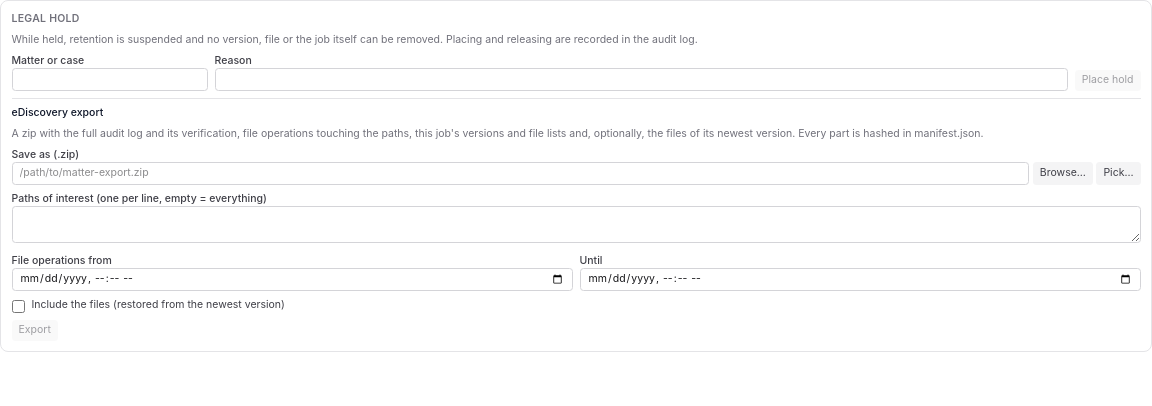
Scenario: legal hold › surfaces backend refusals
In the field labelled "Matter": point(110, 79) x1=12 y1=68 x2=208 y2=90, type "x"
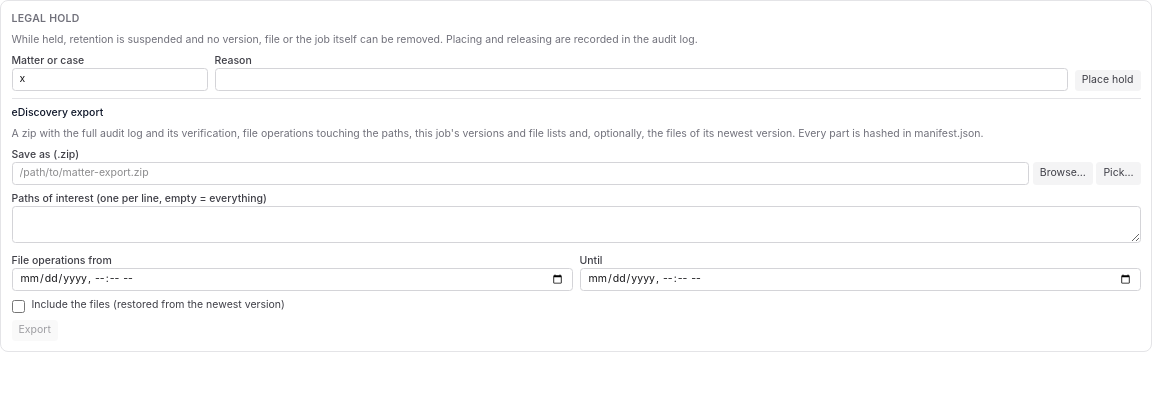
Click the button with test id "legal-hold-place": point(1108, 80) x1=1075 y1=70 x2=1140 y2=90
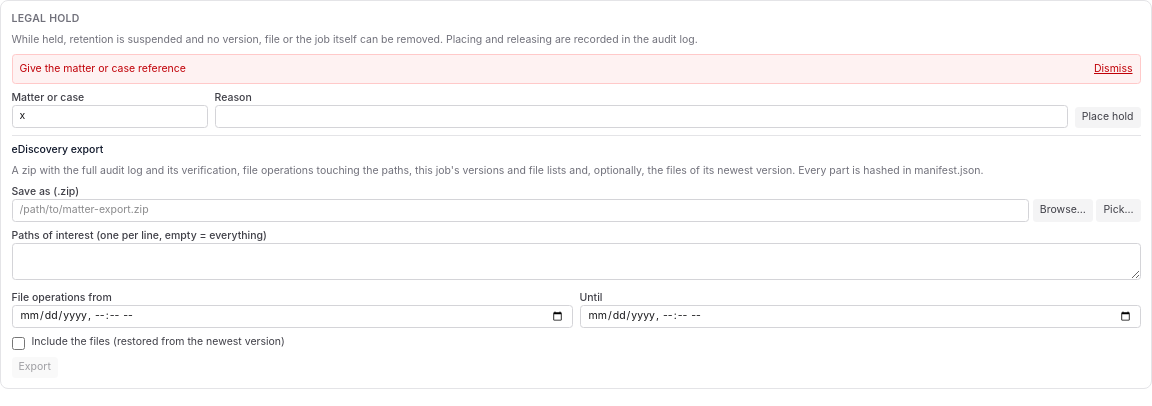
expect the text "Give the matter or case reference" is shown: met, box x1=20 y1=62 x2=186 y2=76
